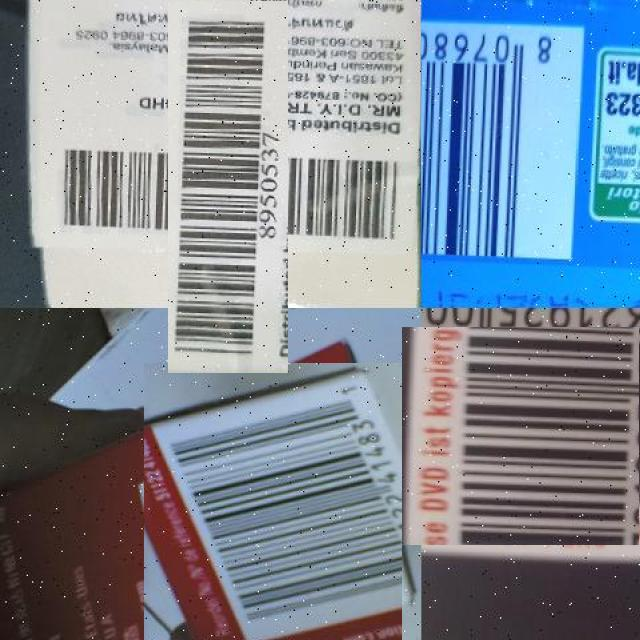Barcode: (134, 373, 410, 640), (105, 62, 352, 310), (411, 318, 640, 555), (422, 18, 578, 258)
